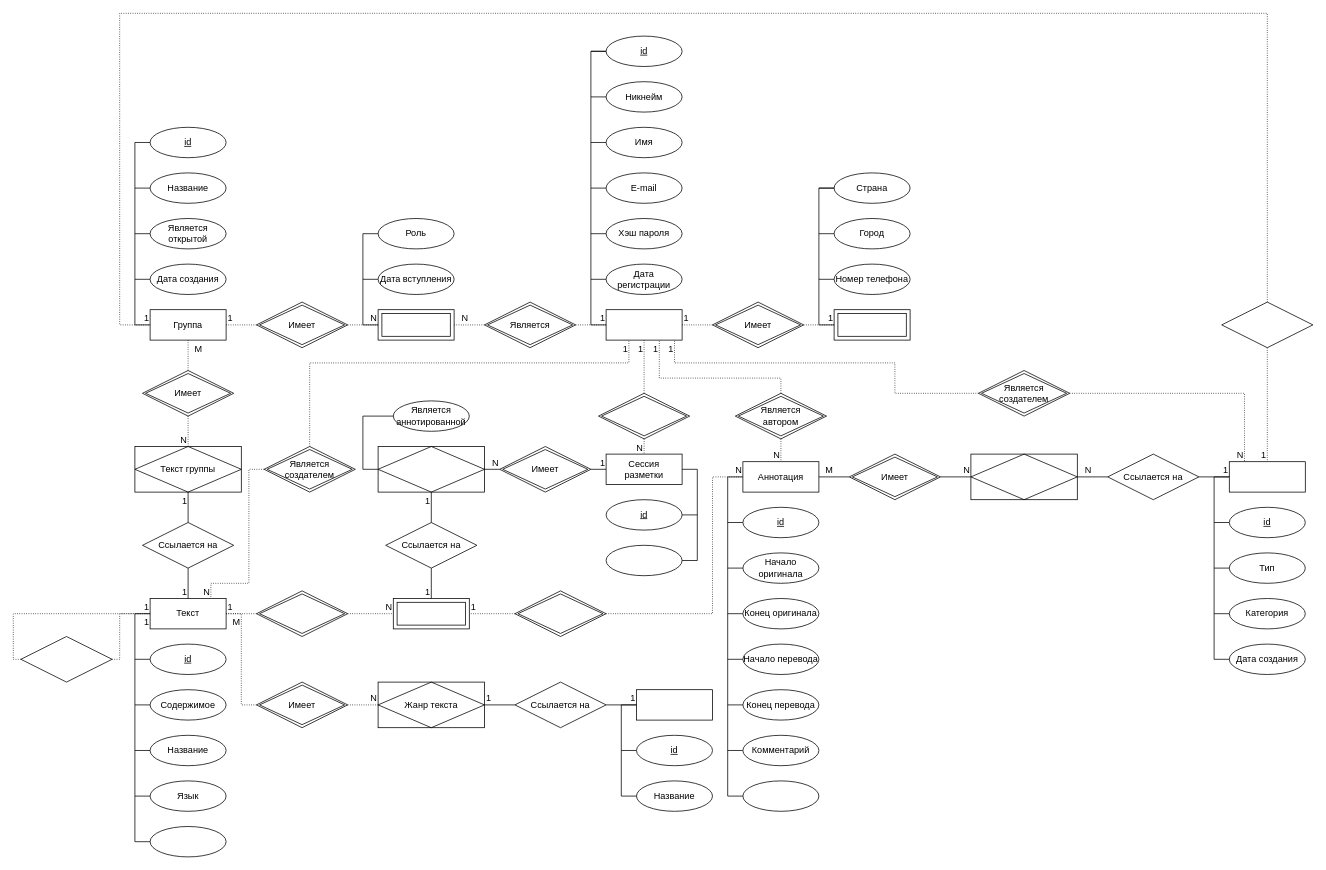
This 1326x870 diagram has some shape labels left out. Each missing label, with the centre of its shape:
Аннотация и ее данные: the point at 1023,476
Данные аннотации: the point at 1267,476
Данные пользователя: the point at 871,324
Дата загрузки: the point at 187,841
Дата изменения: the point at 780,795
Дата начала: the point at 643,560
Жанр: the point at 674,704
Имеет запущенную: the point at 644,416
Пользователь: the point at 643,324
Размечена: the point at 560,613
Состоит в: the point at 302,613
Ссылаются на: the point at 1267,324
Текстовая пара: the point at 431,613
Текстовая пара в сессии: the point at 430,469
Член группы: the point at 415,324
Является переводом: the point at 66,659
